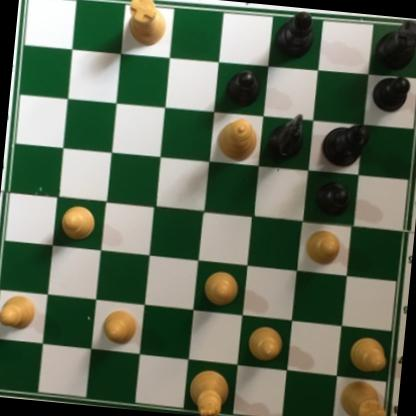black-bishop: (269, 6, 316, 62)
black-king: (317, 119, 370, 172)
black-knight: (263, 108, 303, 159)
black-pawn: (370, 72, 413, 114), (222, 67, 262, 109), (313, 179, 352, 217)
black-rook: (370, 16, 416, 76)
white-king: (181, 364, 231, 416)
white-pawn: (345, 335, 388, 377), (303, 225, 344, 268), (245, 323, 286, 365), (0, 288, 40, 331), (100, 305, 140, 348), (57, 203, 99, 243), (202, 268, 241, 309)
white-queen: (214, 116, 260, 164)
white-rook: (334, 374, 391, 416), (120, 0, 168, 48)
